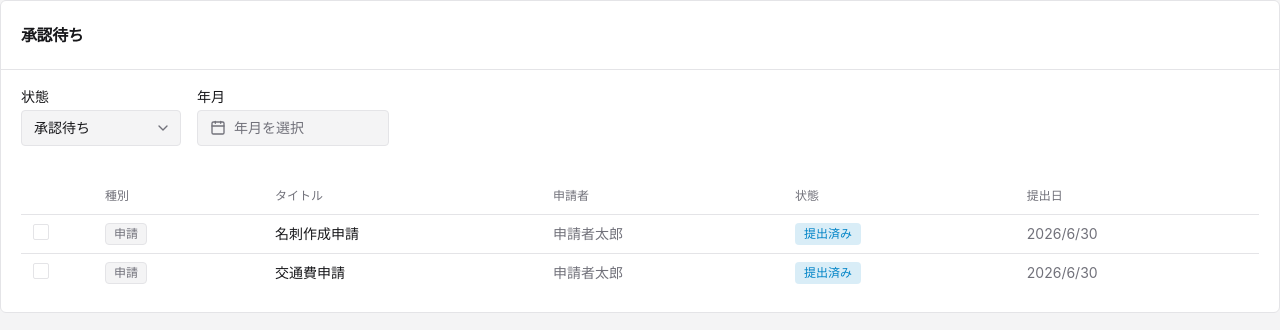
ApprovalsPage › clears selection when the status filter changes
Expected: the button "名刺作成申請" is shown, top-left (275, 224), bottom-right (359, 244)
Click the checkbox named "名刺作成申請を選択" at (41, 232), box top-left (33, 224), bottom-right (49, 240)
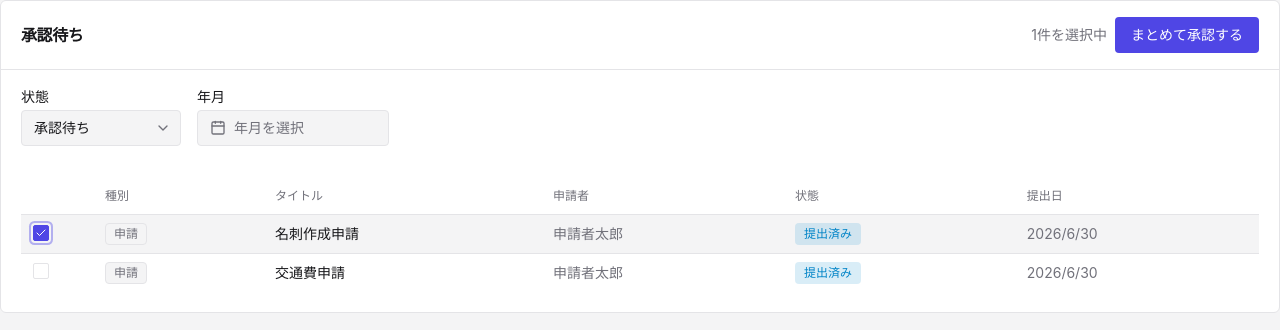
Expected: the text "1件を選択中" is shown, top-left (1031, 25), bottom-right (1107, 45)
Select "承認済み" in the dropdown labelled "状態" at (101, 128), box top-left (21, 110), bottom-right (181, 146)
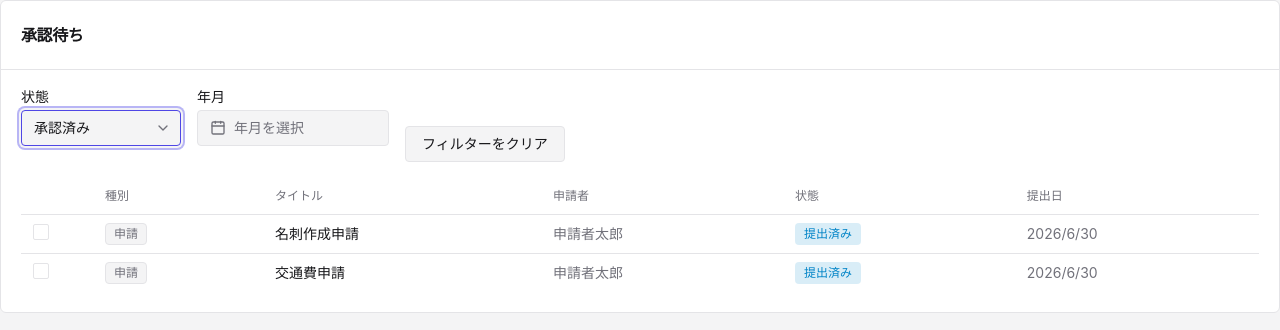
Expected: the text "1件を選択中" is gone
